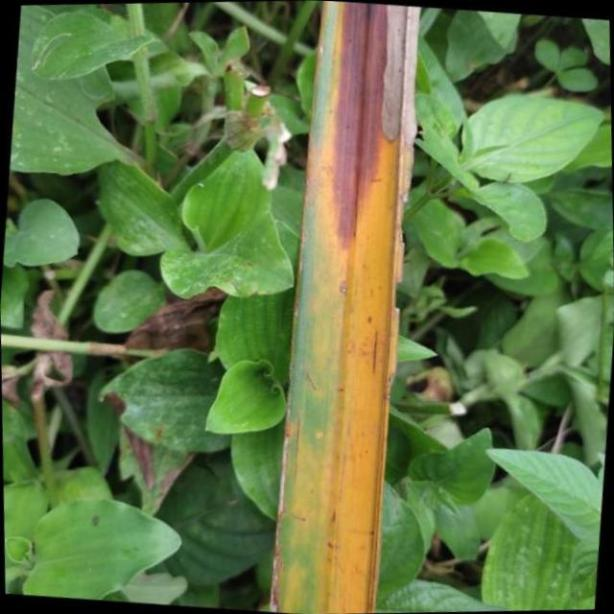Megnesium: (268, 0, 420, 614)
